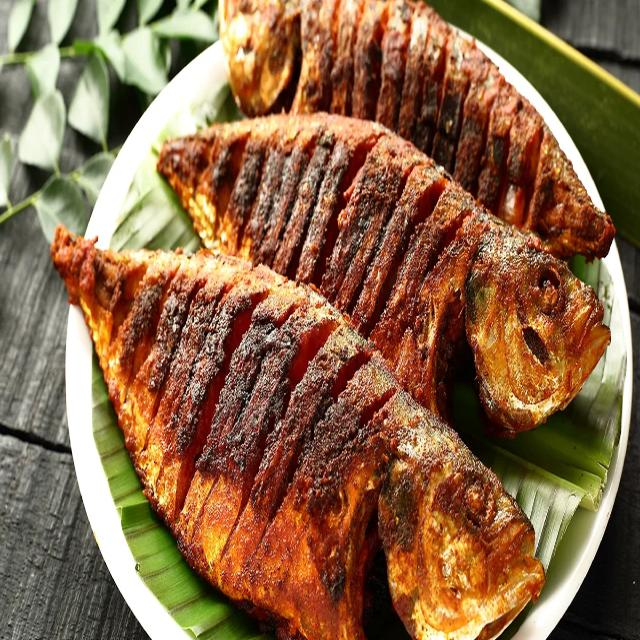Peixe: (49, 221, 546, 638), (154, 108, 612, 438), (217, 0, 616, 263)
